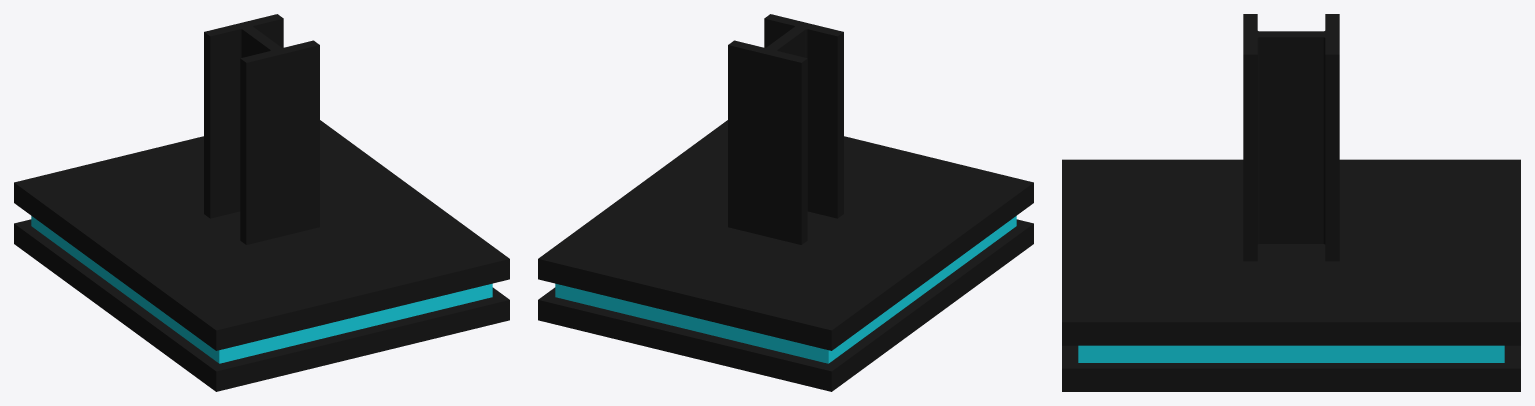
File: Presse.FBX
The picture shows the model from 3 angles, left to right: view 1: azimuth 30°, elevation 25°; view 2: azimuth 150°, elevation 25°; view 3: azimuth 270°, elevation 25°; orthographic projection. The views are drawn at different scales.
Parts seen in each view (by area): view 1: Presse; view 2: Presse; view 3: Presse.
Boxes of the visible parts, bbox=[...] form: Presse: bbox=[14, 14, 509, 391]; Presse: bbox=[538, 14, 1033, 391]; Presse: bbox=[1062, 14, 1520, 391].
Bounding box in the file's own units: 2 × 1.59 × 2.39.
